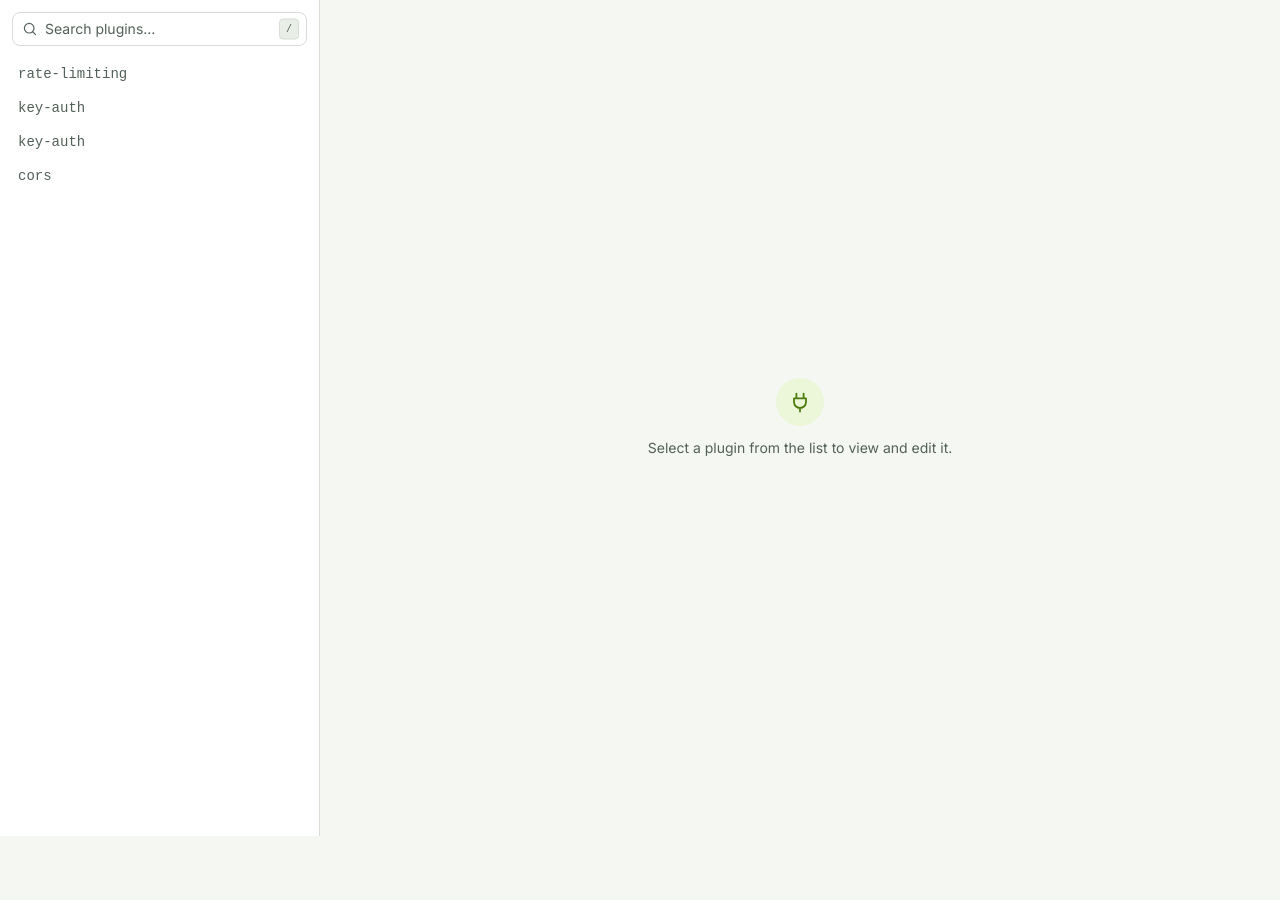
Test: FilePluginsView › with a file loaded › reports how many there are to the page header, whatever the search shows
Type "zzz-no-match" into the field with placeholder "Search plugins…". click: x=160, y=29
box: left=12, top=12, right=307, bottom=46
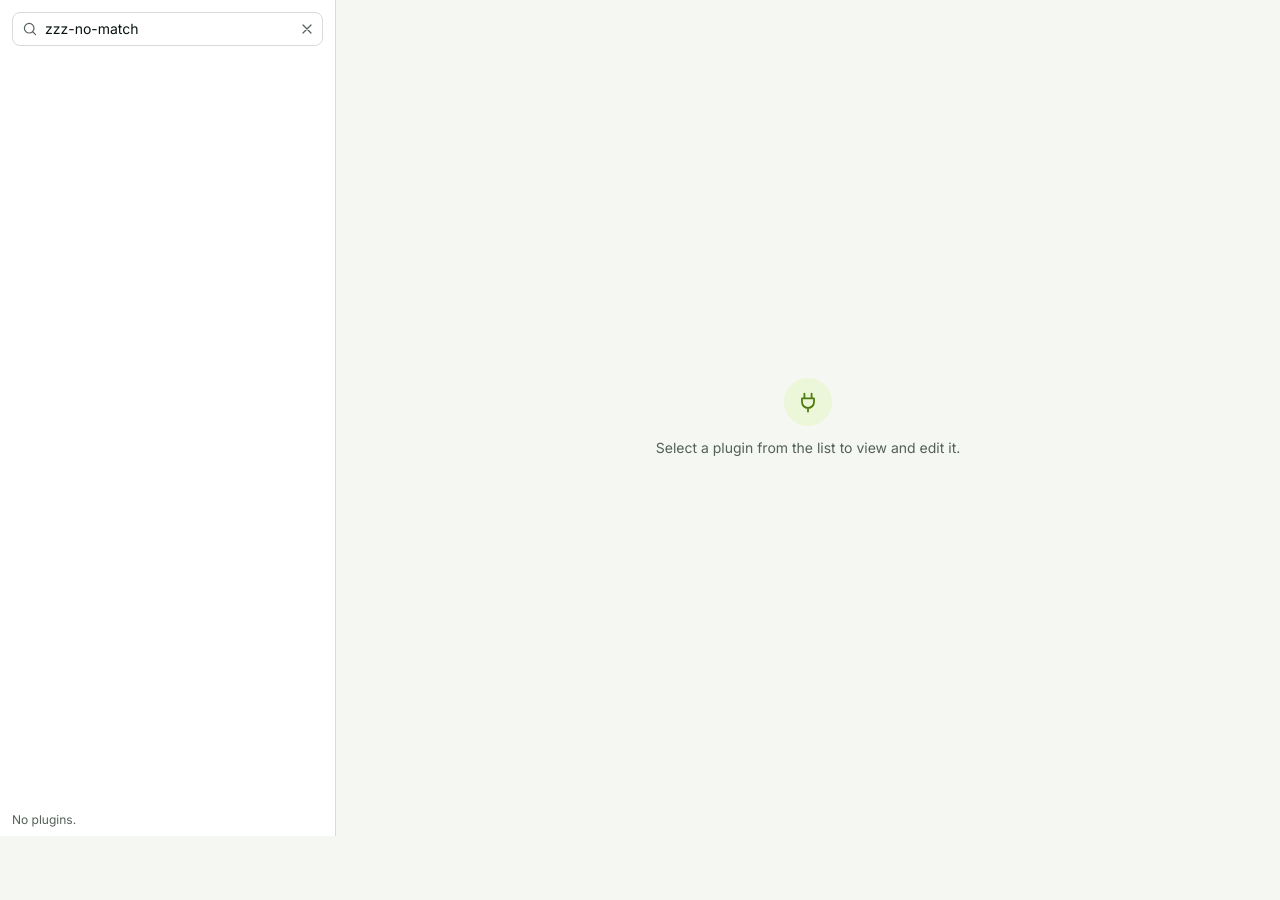
Expected: no list items with test id "file-row" are shown
